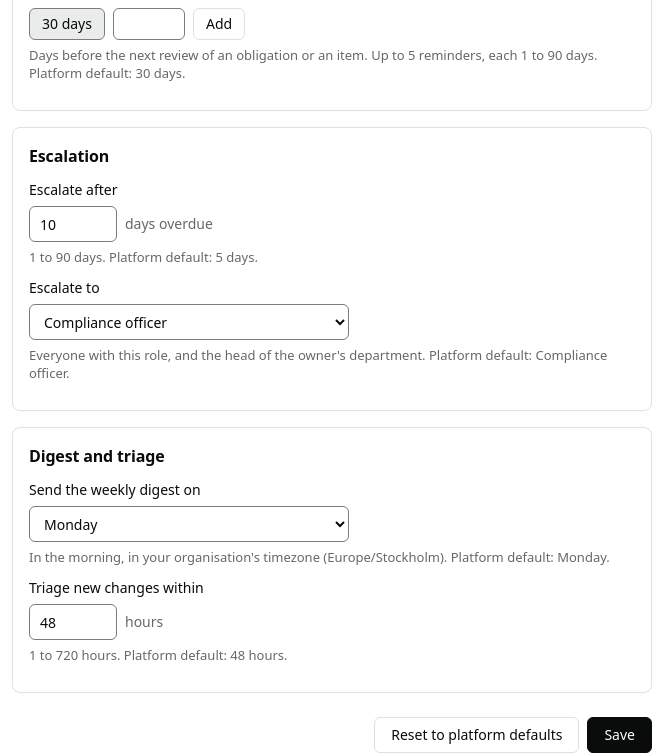
Scenario: the workflow policy page › fills the form with the platform defaults on reset and saves nothing until Save
This screenshot has width=669, height=753.
(page scrolled)
expect the number field labelled "Escalate after" is shown: met, box 29,206 -> 117,242
What coordinates should you click on to do the following:
click the button "Reset to platform defaults"
I would click on:
 (477, 735)
Its box is 374,717 -> 579,752.
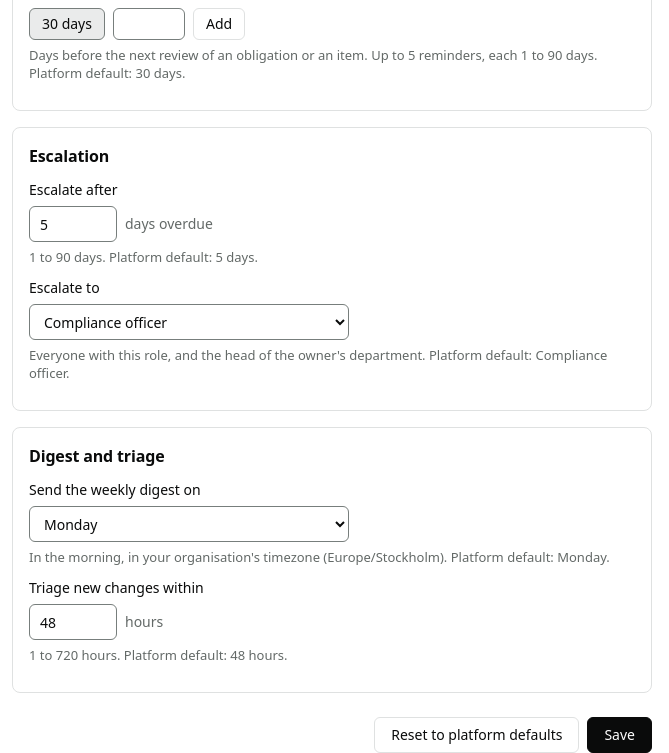
expect the number field labelled "Escalate after" holds "5": met, box 29,206 -> 117,242
What coordinates should you click on to do the following:
click the button "Save"
I would click on:
 (620, 735)
Its box is 587,717 -> 652,752.
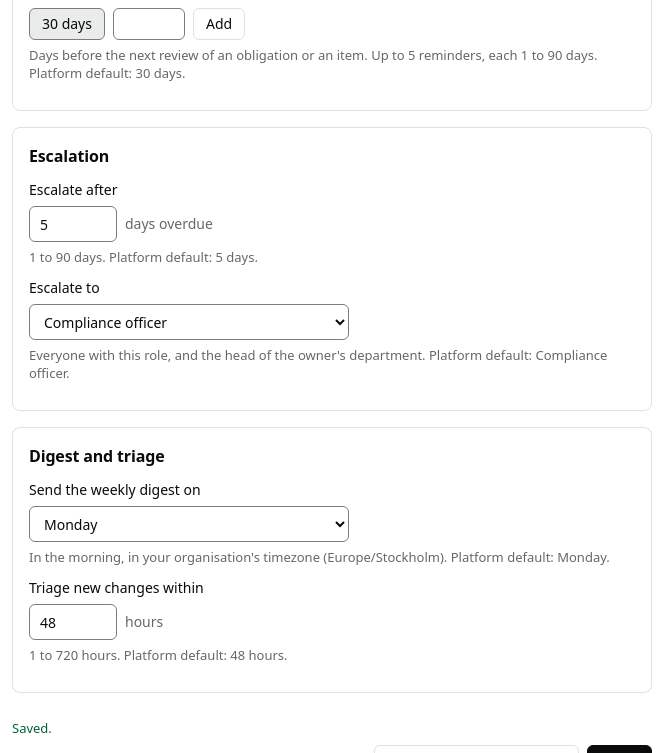
expect the text "Saved." is shown: met, box 12,719 -> 52,737
